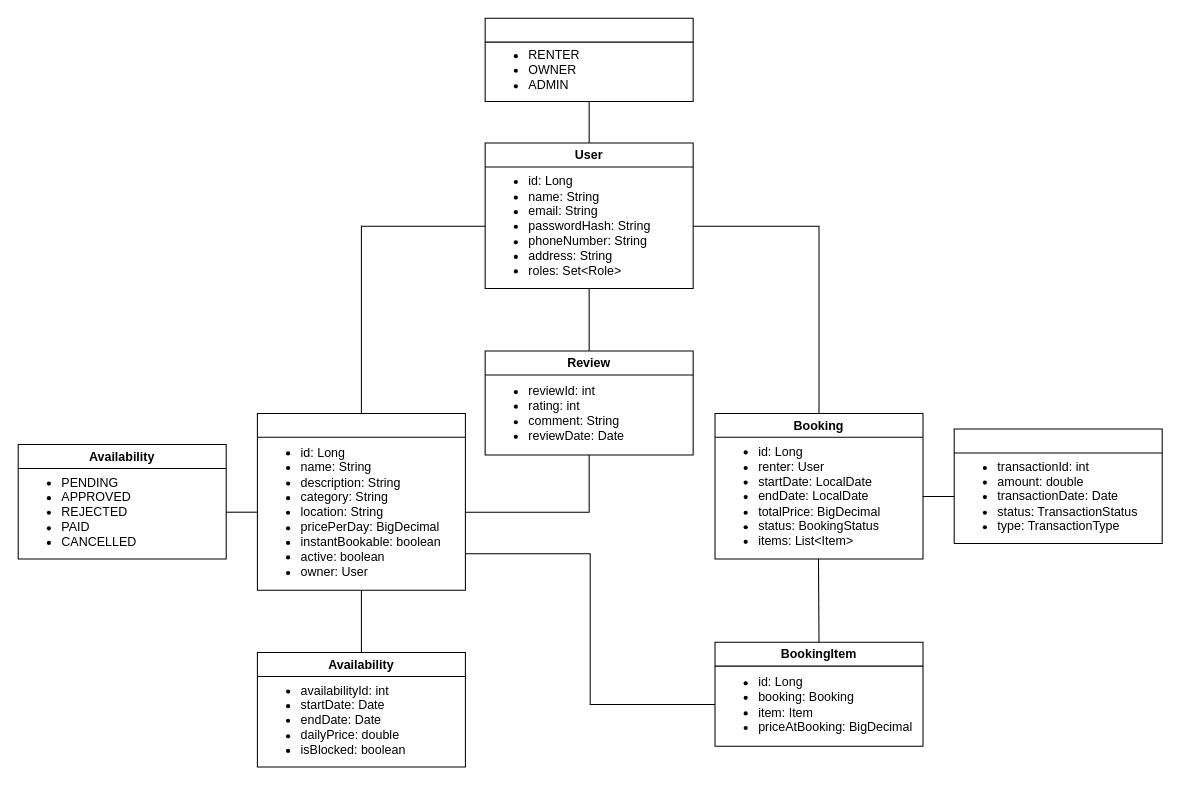
Image size: 1180x788. Some labels were removed from this diagram. Here are the shapes that lost their labels. From the top down, the box of each, then its label:
(484, 17, 693, 101): Role
(256, 412, 465, 590): Item
(953, 428, 1162, 543): PaymentTransaction
